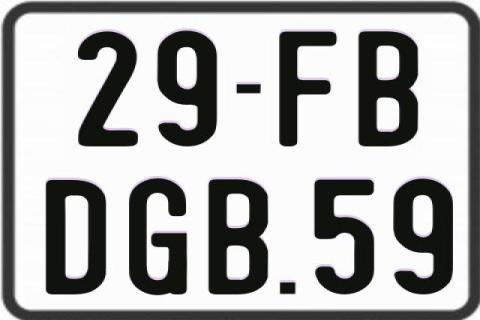0: (76, 30, 140, 150), (154, 28, 218, 146), (311, 180, 375, 298), (390, 176, 453, 295)
B: (206, 178, 271, 298), (358, 29, 417, 150)
D: (43, 178, 107, 294)
F: (276, 31, 337, 148)
G: (127, 178, 186, 296)
